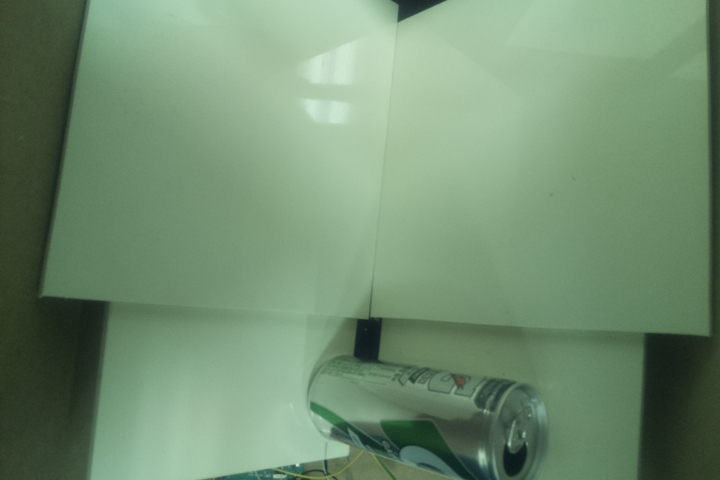can: (306, 347, 552, 480)
